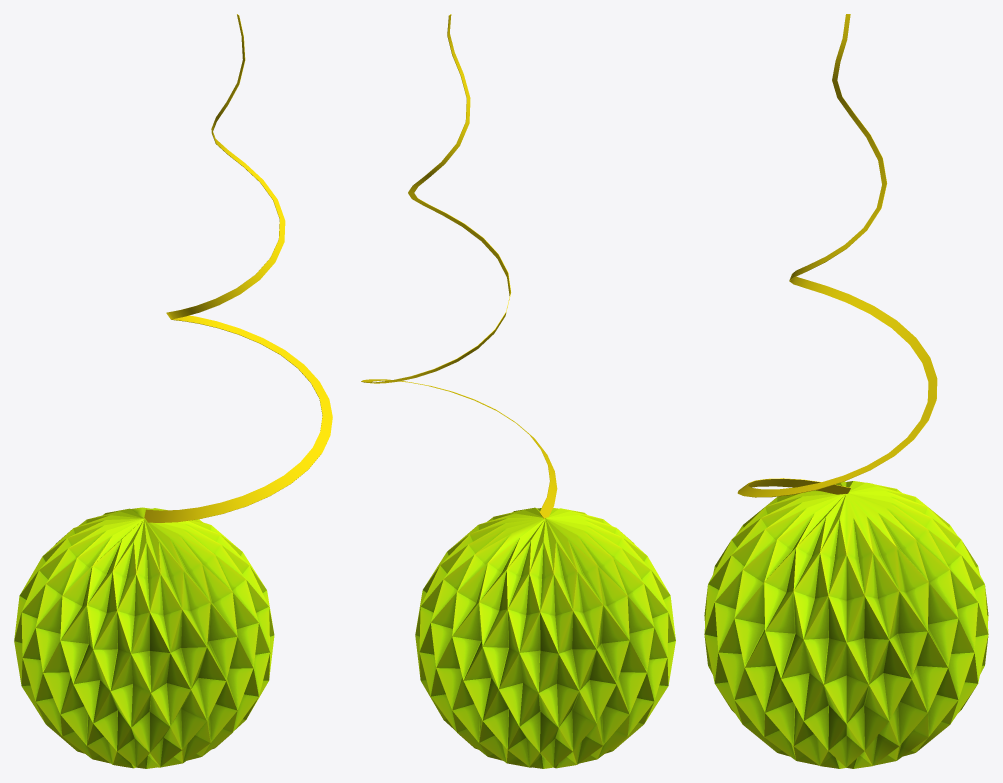
Rendered from PartyHangings01D_6.FBX.
3 renders of one model, left to right at view 1: azimuth 30°, elevation 25°; view 2: azimuth 150°, elevation 25°; view 3: azimuth 270°, elevation 25°, orthographic. The views are drawn at different scales.
Visible parts, largest first — view 1: PartyHangings01D_6; view 2: PartyHangings01D_6; view 3: PartyHangings01D_6.
Boxes of the visible parts, <box> form: PartyHangings01D_6: <box>14,14,332,768</box>; PartyHangings01D_6: <box>361,14,675,768</box>; PartyHangings01D_6: <box>704,14,988,768</box>.
Size of what is drawn, in the model's own units: 0.4628 by 1.11 by 0.3614.
